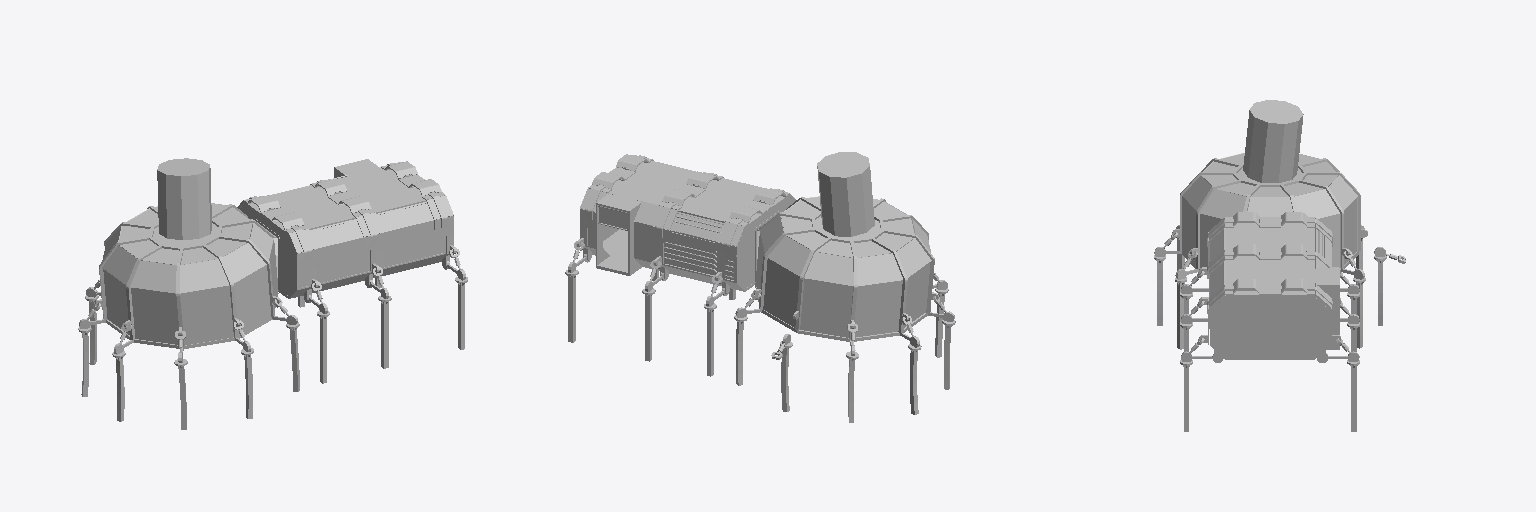
Rendered from deepsea_shelter_xx.obj.
3 views of the same model, side by side, from view 1: azimuth 30°, elevation 25°; view 2: azimuth 150°, elevation 25°; view 3: azimuth 270°, elevation 25° (orthographic).
Parts seen in each view (by area): view 1: black_smoker_plant; view 2: black_smoker_plant, wire_mesh__2_; view 3: black_smoker_plant.
Boxes of the visible parts, box(x1,y1,x2,y2) form: black_smoker_plant: box(78, 158, 467, 429); black_smoker_plant: box(565, 152, 955, 422); wire_mesh__2_: box(599, 207, 733, 279); black_smoker_plant: box(1154, 100, 1405, 431).
Bounding box in the file's own units: 25.77 × 16.48 × 17.11.